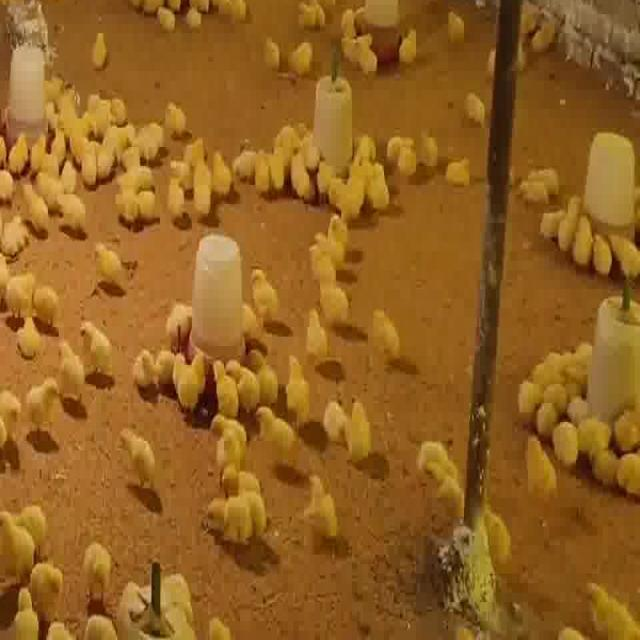poussin: (599, 546, 636, 638), (285, 322, 321, 402), (412, 423, 454, 491), (519, 433, 559, 503), (117, 424, 160, 489), (481, 494, 522, 560), (343, 402, 386, 464), (554, 576, 596, 638), (303, 472, 338, 544), (76, 312, 116, 373), (55, 340, 94, 400), (256, 410, 299, 464), (28, 370, 66, 428), (224, 493, 269, 540), (86, 241, 130, 289), (177, 336, 211, 398), (252, 346, 283, 409), (213, 454, 270, 488), (252, 248, 283, 308), (0, 504, 32, 562), (607, 214, 640, 270), (209, 409, 248, 456), (306, 290, 338, 346), (197, 489, 230, 542), (28, 562, 71, 602), (132, 341, 174, 381), (52, 60, 76, 130), (163, 296, 189, 360), (162, 562, 196, 610), (6, 270, 42, 314), (438, 154, 482, 190), (21, 502, 49, 555), (12, 317, 44, 363), (306, 238, 335, 288), (242, 297, 268, 352), (290, 148, 312, 212), (378, 303, 400, 366), (230, 136, 260, 182), (350, 35, 382, 78), (134, 119, 164, 164), (13, 582, 36, 640), (230, 361, 256, 412), (195, 150, 218, 207), (327, 208, 356, 253), (214, 318, 239, 370), (442, 7, 476, 45), (538, 192, 568, 234), (554, 421, 582, 466), (115, 164, 161, 191), (26, 186, 54, 230), (322, 402, 348, 449), (96, 108, 122, 154), (0, 218, 28, 260), (572, 209, 596, 257), (394, 17, 422, 58), (538, 351, 566, 391), (162, 87, 188, 130), (556, 202, 582, 244), (592, 448, 622, 484), (615, 449, 639, 494), (84, 548, 112, 586), (54, 136, 74, 189), (210, 150, 232, 198), (278, 114, 300, 162), (582, 418, 615, 450), (288, 30, 318, 65), (416, 125, 439, 170), (166, 128, 198, 159), (561, 343, 591, 376), (0, 154, 27, 190), (314, 232, 344, 264), (526, 157, 556, 189), (592, 223, 612, 271), (540, 380, 572, 410), (516, 374, 538, 417), (370, 162, 391, 207), (464, 88, 488, 127), (0, 387, 26, 422), (614, 415, 640, 449), (11, 130, 31, 174), (35, 285, 59, 321), (68, 188, 89, 229), (251, 156, 271, 199), (79, 148, 100, 188), (324, 150, 348, 185), (347, 137, 365, 183), (120, 140, 144, 174), (136, 189, 162, 220), (186, 129, 211, 161), (265, 159, 288, 192), (168, 163, 186, 204), (84, 76, 110, 104), (263, 40, 287, 70), (294, 0, 330, 20), (537, 399, 555, 438), (108, 82, 128, 116), (67, 124, 93, 150), (115, 188, 137, 218), (384, 134, 414, 156), (91, 28, 108, 66), (30, 136, 45, 178), (398, 146, 418, 177), (160, 0, 178, 29), (186, 0, 203, 28)
